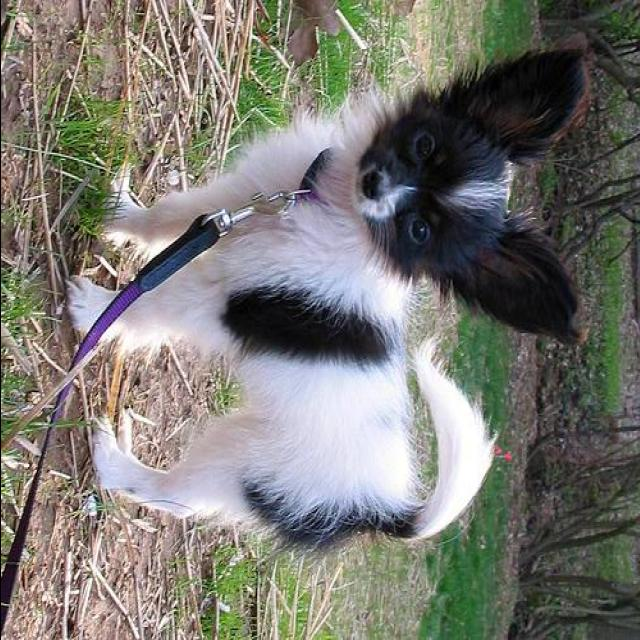papillon: (64, 45, 592, 559)
